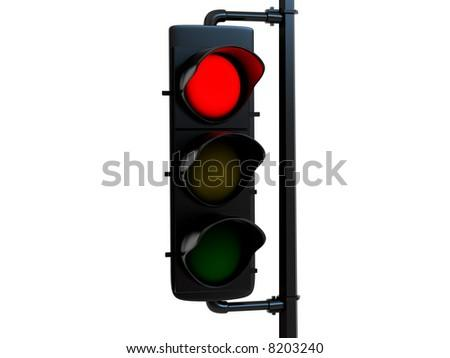red: (169, 27, 267, 301)
